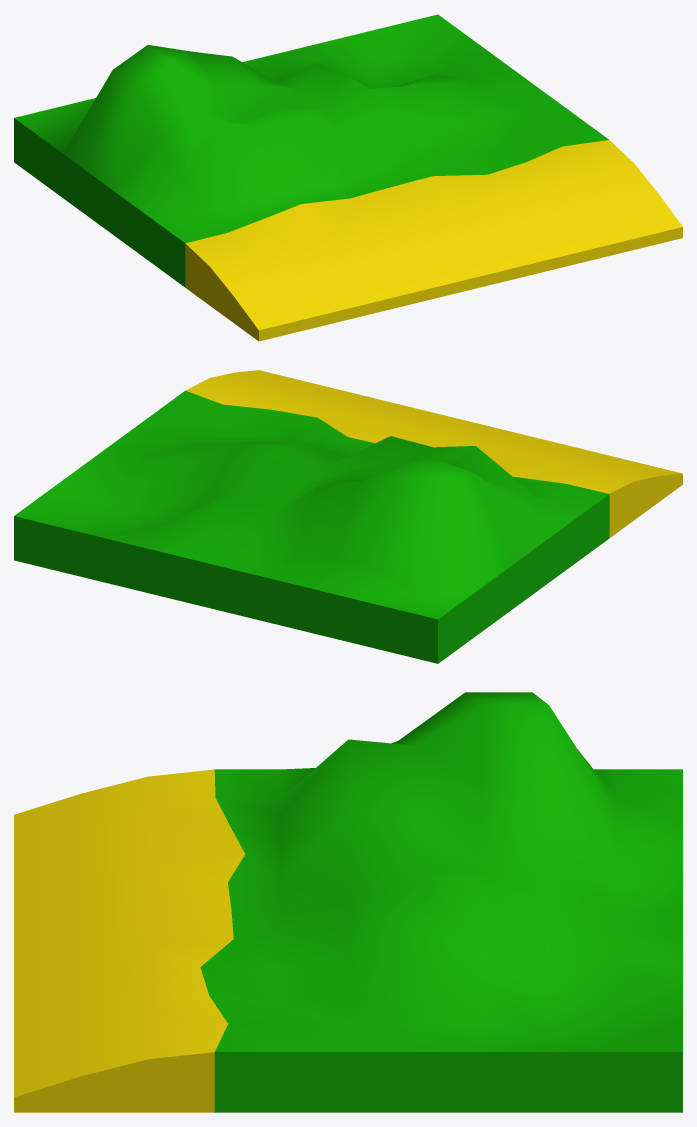
The model's file is island_lateral_03.fbx.
3 renders of one model, top to bottom at view 1: azimuth 30°, elevation 25°; view 2: azimuth 150°, elevation 25°; view 3: azimuth 270°, elevation 25°, orthographic. The views are drawn at different scales.
Visible parts, largest first — view 1: Box001; view 2: Box001; view 3: Box001.
Part boxes in pixels (<box>): Box001: <box>14,14,682,341</box>; Box001: <box>14,370,682,663</box>; Box001: <box>14,692,682,1112</box>.
Size of the model in its own units: 400 by 120 by 400.
